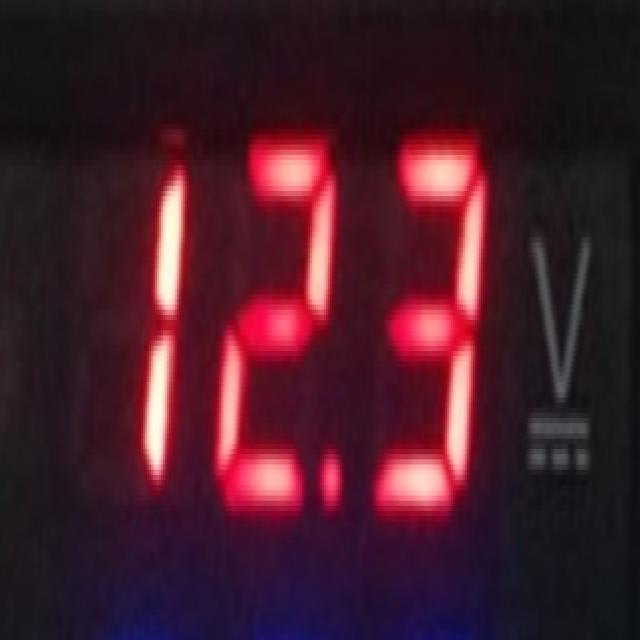.: (68, 115, 497, 560)
1: (108, 81, 205, 503)
2: (214, 98, 345, 552)
3: (367, 91, 494, 552)
